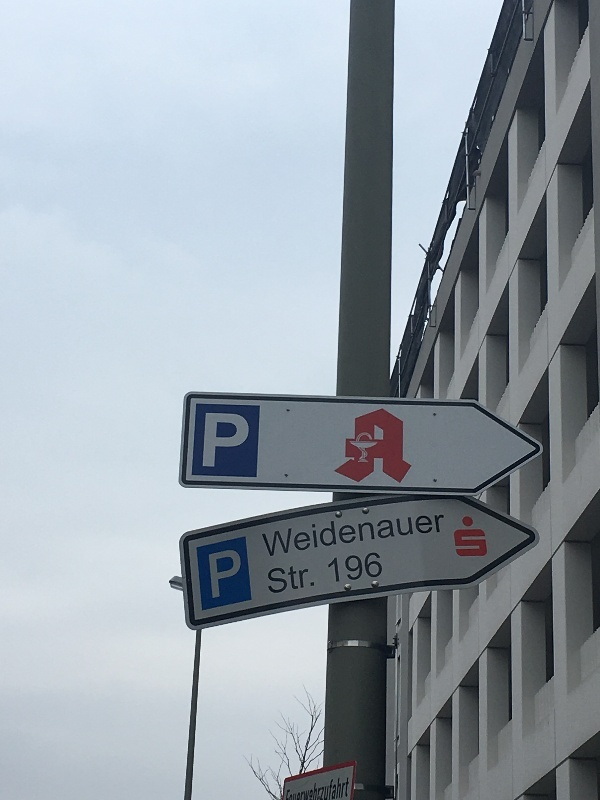text: (401, 402, 417, 486), (369, 402, 384, 486), (385, 402, 400, 486), (355, 402, 368, 486), (209, 414, 224, 469), (225, 414, 240, 469), (209, 549, 224, 599), (225, 549, 240, 599), (273, 514, 288, 559), (289, 514, 304, 559), (305, 514, 320, 559), (321, 514, 336, 559), (337, 514, 352, 559), (353, 514, 368, 559), (369, 514, 384, 559), (385, 514, 400, 559), (401, 514, 416, 559), (417, 514, 432, 559), (465, 517, 480, 559), (433, 514, 445, 559), (452, 517, 464, 559), (241, 414, 250, 469), (261, 514, 272, 559), (337, 552, 352, 584), (353, 552, 368, 584), (369, 552, 384, 584), (273, 566, 288, 595), (289, 566, 304, 595), (289, 775, 304, 800), (305, 775, 320, 800), (321, 775, 336, 800), (305, 566, 317, 595), (337, 775, 350, 800), (481, 517, 488, 559), (328, 552, 336, 584), (241, 549, 244, 599), (267, 566, 272, 595), (206, 414, 208, 469), (287, 775, 288, 800)
